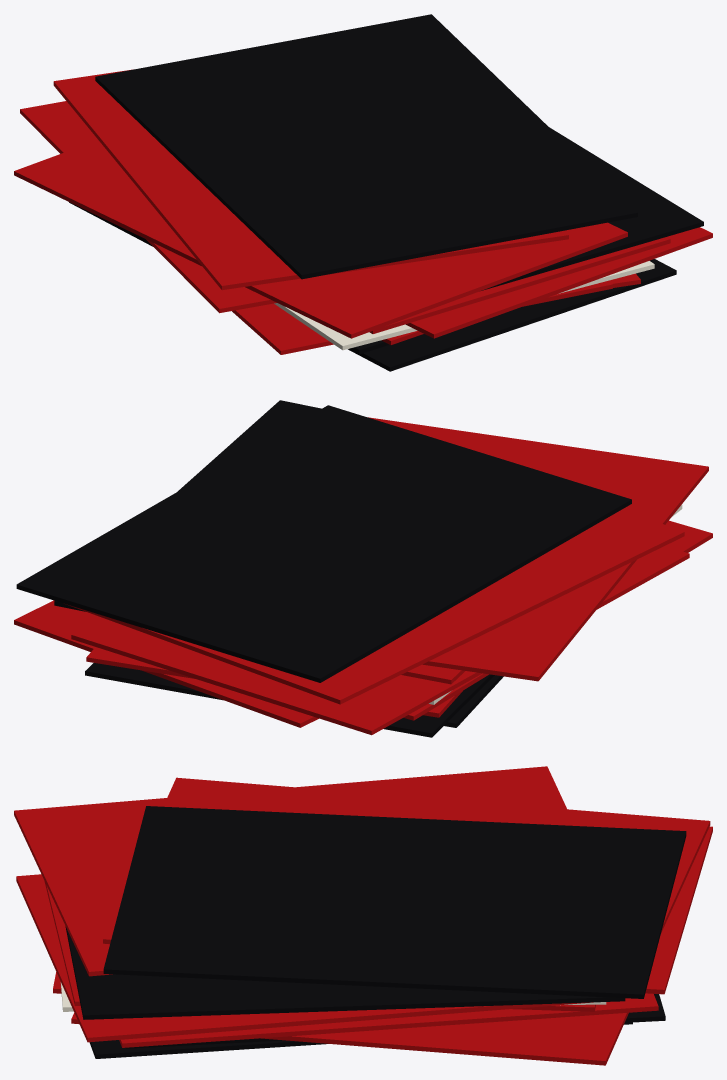
The model's file is Item_OR_Cards_10.glb.
3 renders of one model, top to bottom at view 1: azimuth 30°, elevation 25°; view 2: azimuth 150°, elevation 25°; view 3: azimuth 270°, elevation 25°, orthographic. The views are drawn at different scales.
Visible parts, largest first — view 1: Item_OR_Cards_10; view 2: Item_OR_Cards_10; view 3: Item_OR_Cards_10.
Part boxes in pixels (<box>): Item_OR_Cards_10: <box>14,14,712,371</box>; Item_OR_Cards_10: <box>14,400,712,737</box>; Item_OR_Cards_10: <box>14,766,712,1065</box>.
Bounding box in the file's own units: 0.0958 × 0.0128 × 0.1132.
